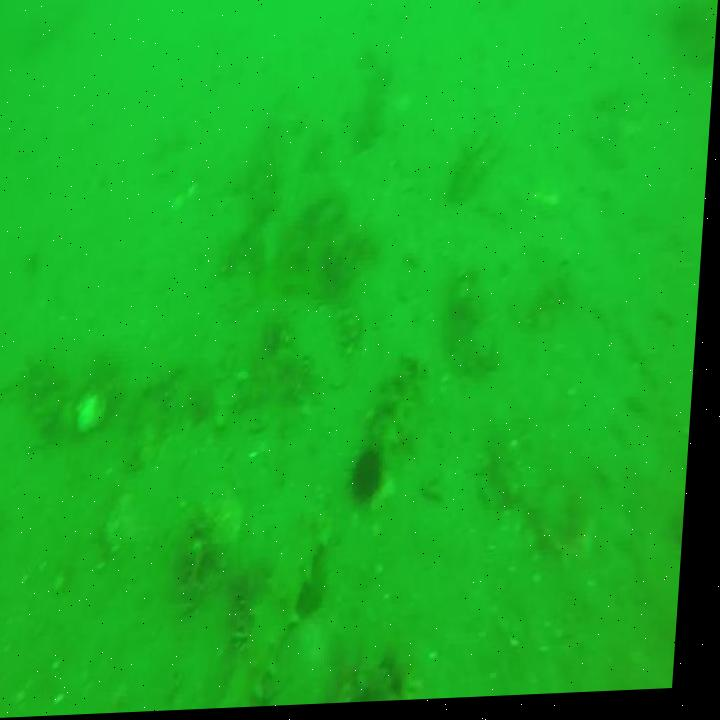echinus: (357, 457, 390, 509)
holothurian: (237, 515, 336, 710)
scallop: (78, 392, 112, 436)
